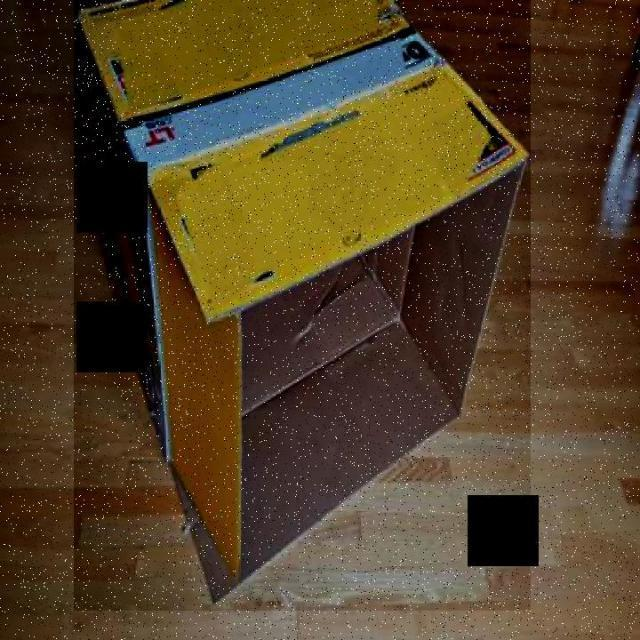box: (73, 0, 530, 611)
